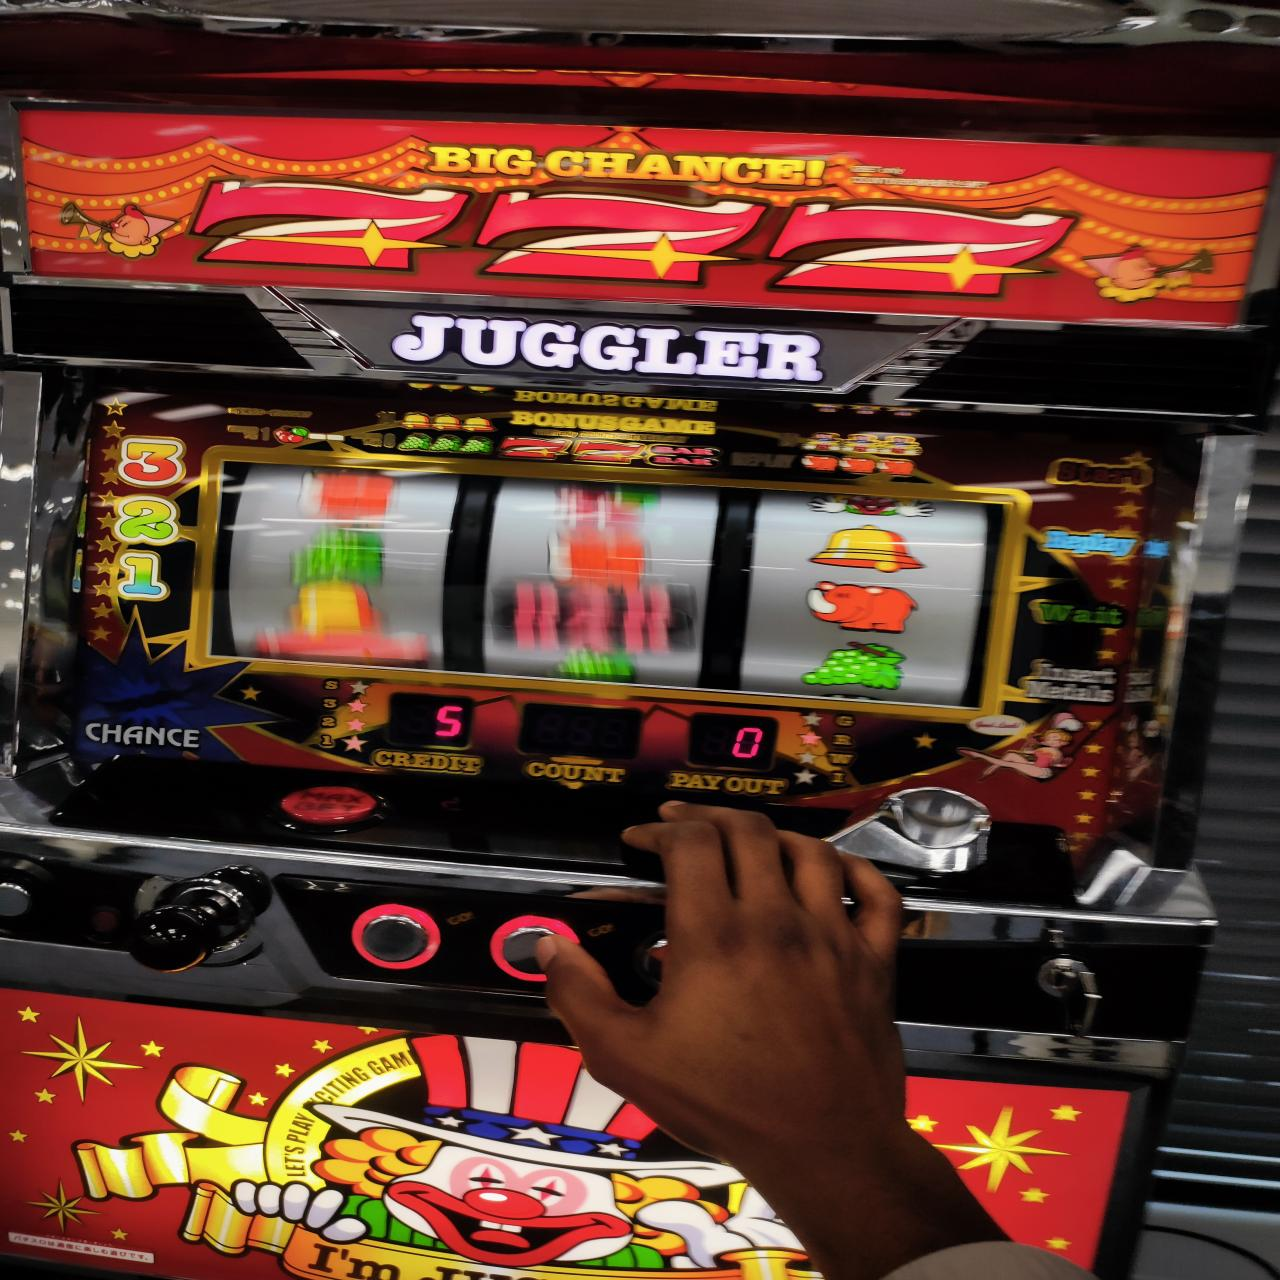8: (799, 581, 926, 635)
bell: (808, 519, 927, 576)
grape: (797, 638, 911, 689)
rhino: (184, 461, 1010, 716)
